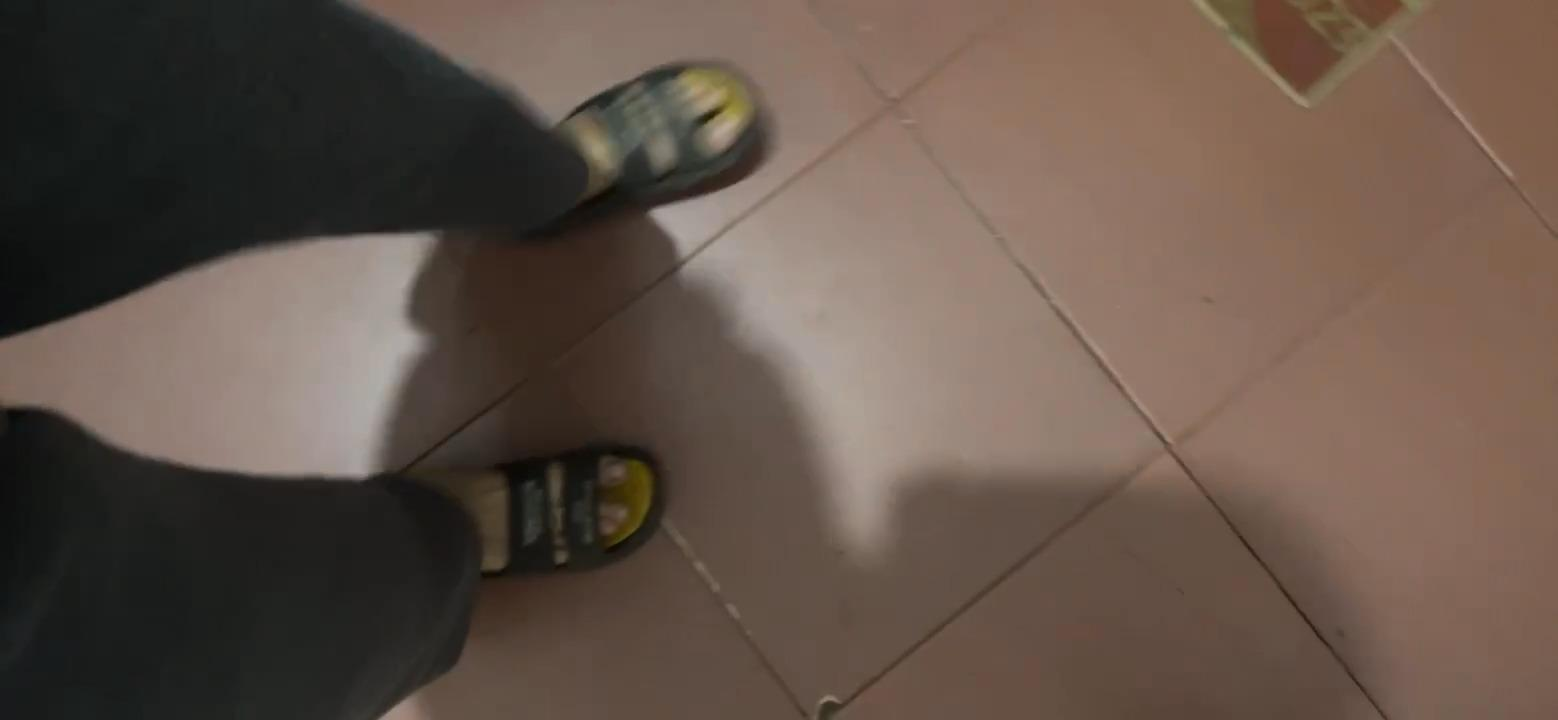no-boot: (415, 439, 669, 586), (537, 67, 761, 211)
